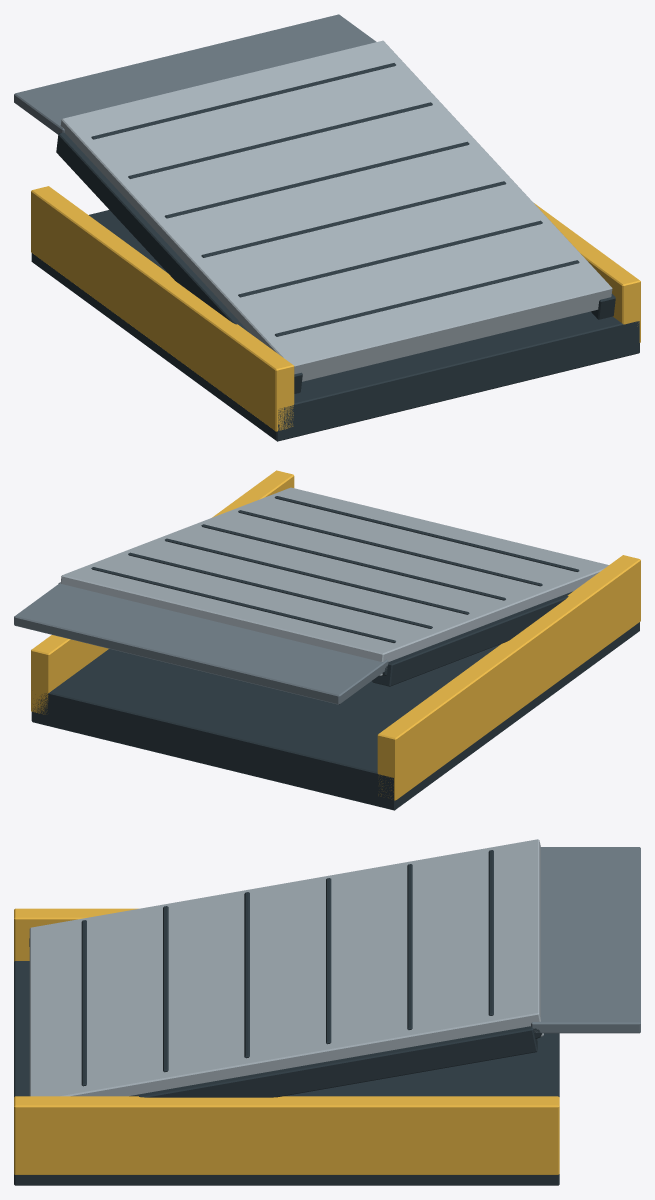
The model's file is b14_recessed_hydraulic_dock_leveler.glb.
3 renders of one model, top to bottom at view 1: azimuth 30°, elevation 25°; view 2: azimuth 150°, elevation 25°; view 3: azimuth 270°, elevation 25°, orthographic. The views are drawn at different scales.
Parts seen in each view (by area): view 1: b14_recessed_hydraulic_dock_leveler; view 2: b14_recessed_hydraulic_dock_leveler; view 3: b14_recessed_hydraulic_dock_leveler.
Boxes of the visible parts, x1,y1,x2,y2 form: b14_recessed_hydraulic_dock_leveler: (14,14,640,441); b14_recessed_hydraulic_dock_leveler: (14,470,640,810); b14_recessed_hydraulic_dock_leveler: (14,839,640,1185).
Size of the model in its own units: 2.13 by 0.8106 by 2.85.
